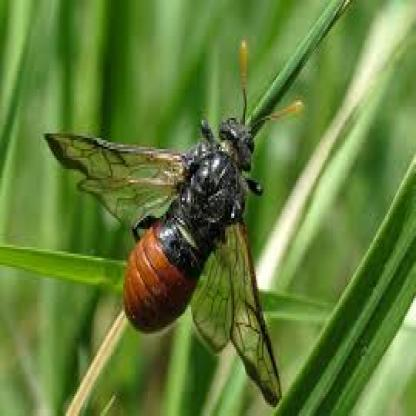sawfly: (48, 39, 306, 413)
